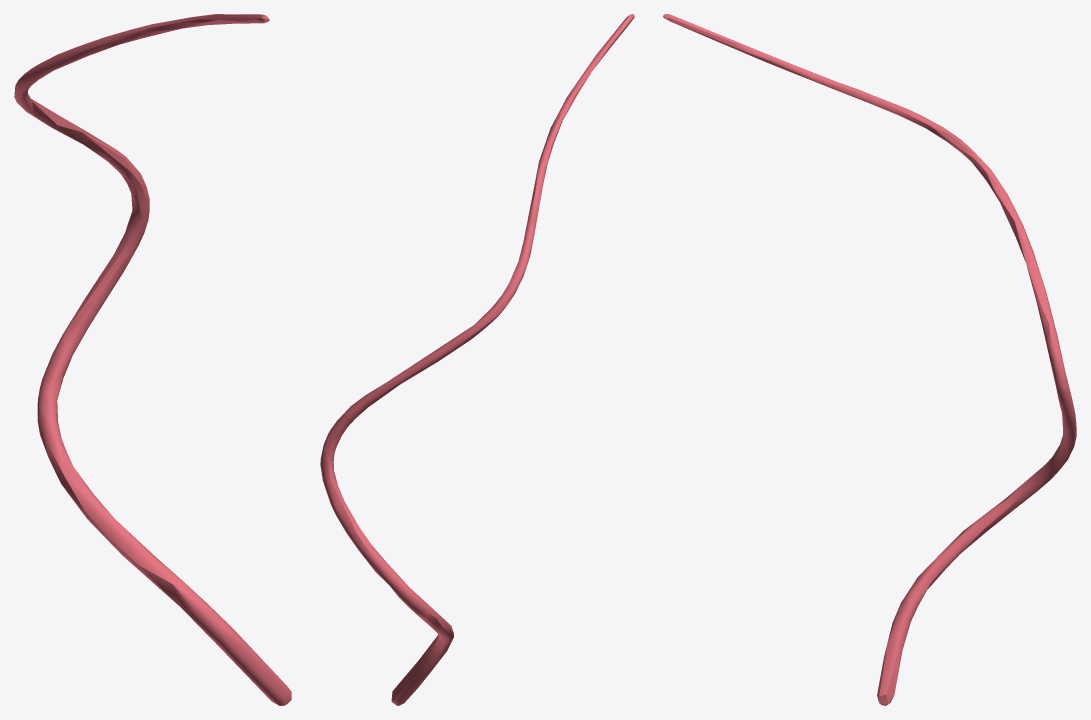
The model's file is fma50665_fj1720m.glb.
3 renders of one model, left to right at view 1: azimuth 30°, elevation 25°; view 2: azimuth 150°, elevation 25°; view 3: azimuth 270°, elevation 25°, orthographic. The views are drawn at different scales.
Parts seen in each view (by area): view 1: FMA50665_FJ1720M; view 2: FMA50665_FJ1720M; view 3: FMA50665_FJ1720M.
Boxes of the visible parts, x1,y1,x2,y2 form: FMA50665_FJ1720M: [14, 14, 291, 705]; FMA50665_FJ1720M: [320, 14, 634, 705]; FMA50665_FJ1720M: [663, 14, 1076, 705].
Size of the model in its own units: 0.00811 by 0.0299 by 0.0177.
